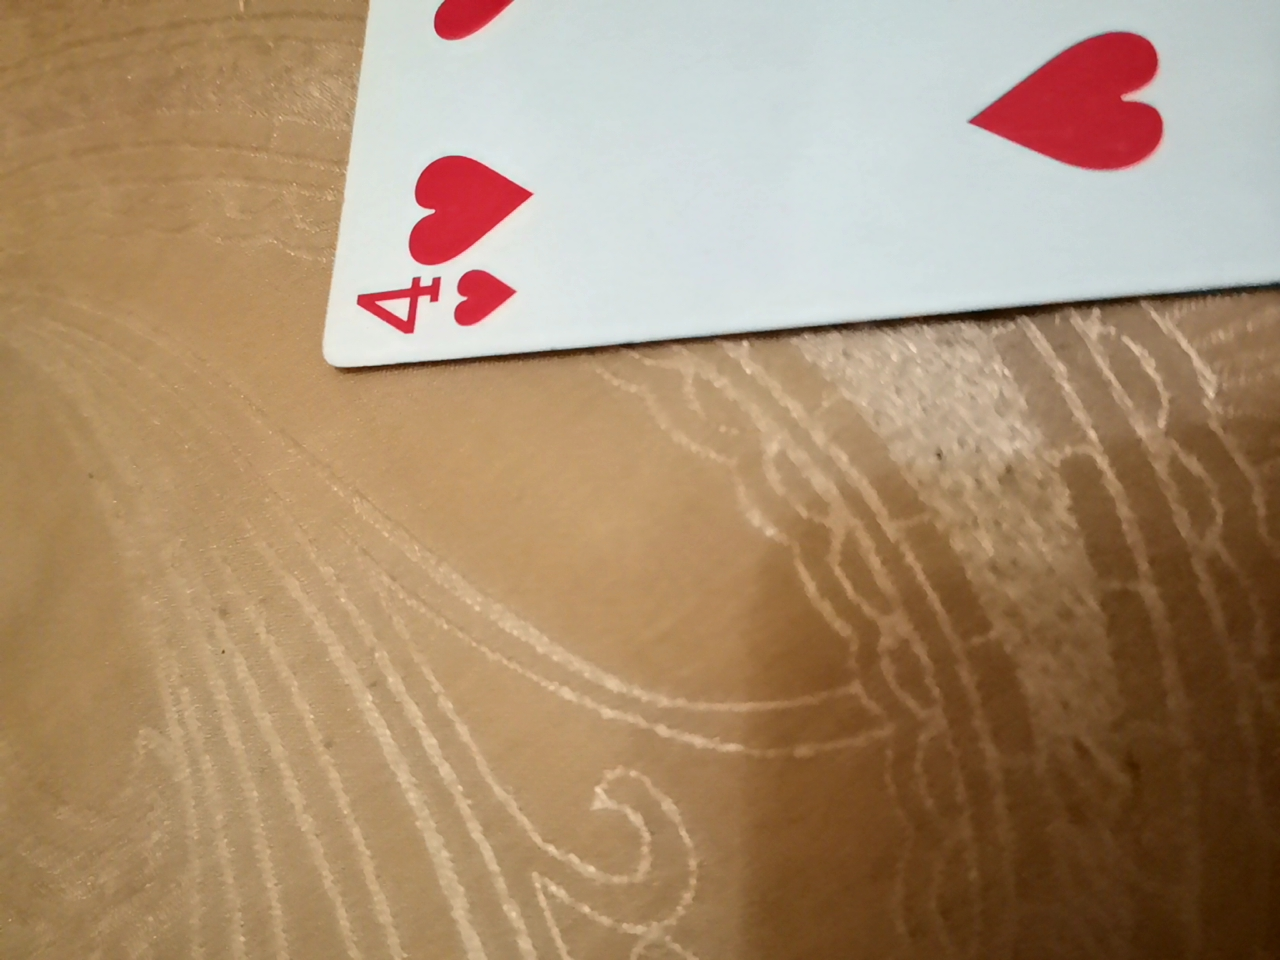hx 4: (305, 1, 1278, 397)
